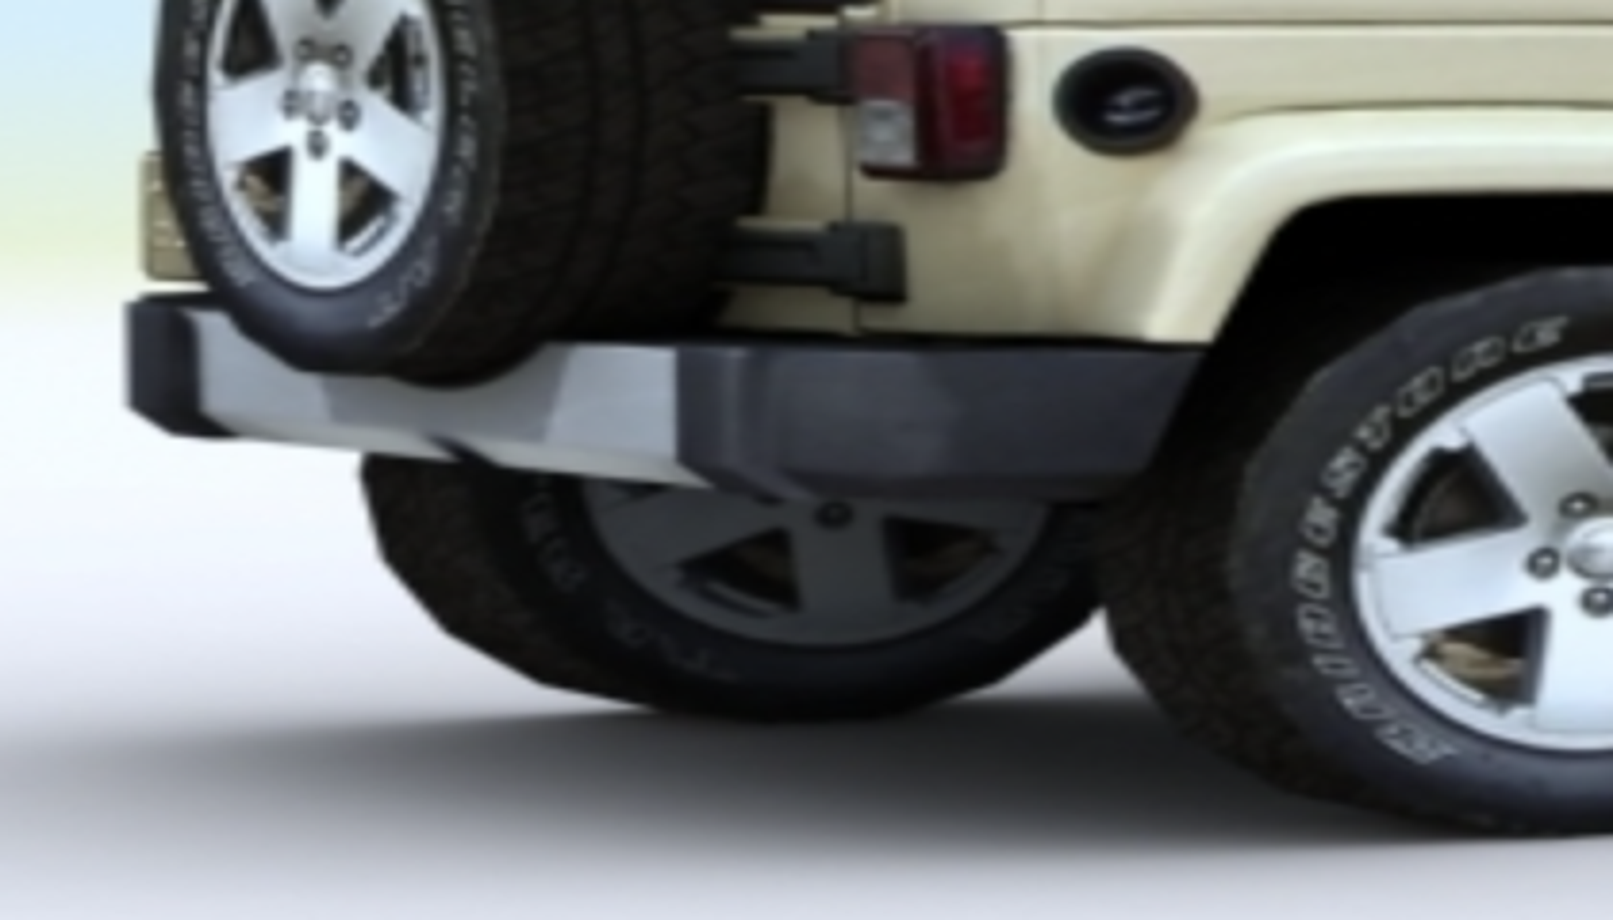hatch: (1041, 38, 1203, 174)
